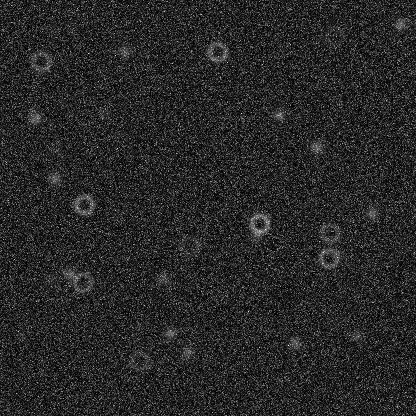Ring: (72, 192, 96, 216), (316, 245, 340, 269), (127, 348, 151, 372), (205, 39, 229, 63), (322, 23, 346, 47), (177, 234, 201, 258), (247, 211, 271, 235), (70, 269, 94, 293), (317, 220, 341, 244), (28, 49, 52, 73)
Spot: (308, 139, 324, 155), (325, 312, 341, 328), (286, 334, 302, 350), (178, 344, 194, 360), (42, 21, 58, 37), (154, 270, 170, 286), (392, 16, 408, 32), (363, 204, 379, 220), (47, 170, 63, 186), (348, 327, 364, 343), (43, 272, 59, 288), (248, 228, 264, 244), (61, 265, 77, 281), (161, 325, 177, 341), (96, 105, 112, 121), (271, 106, 287, 122), (116, 42, 132, 58), (45, 142, 61, 158), (27, 110, 43, 126)
